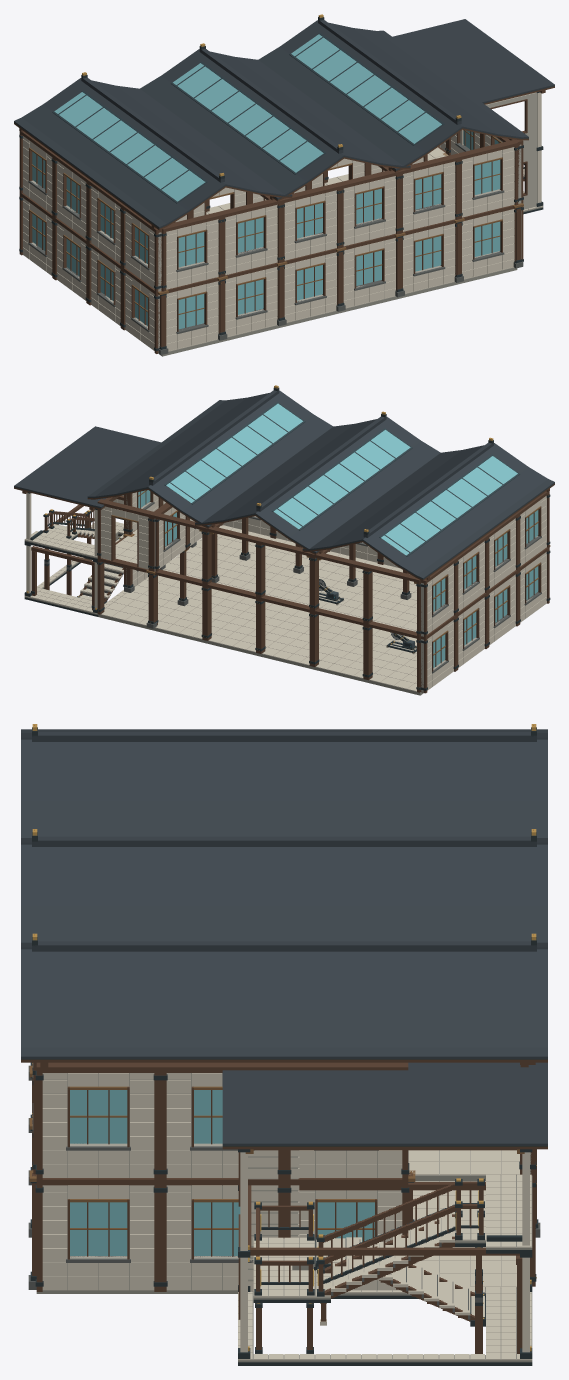
Rendered from visual-far.glb.
The picture shows the model from 3 angles, top to bottom: view 1: azimuth 30°, elevation 25°; view 2: azimuth 150°, elevation 25°; view 3: azimuth 270°, elevation 25°; orthographic projection. The views are drawn at different scales.
Parts seen in each view (by area): view 1: 真实窗洞与玻璃 (×22), 连续屋面 · gable (×3), 工业屋面连续采光带 (×3), 连续屋面 · flat, 服务翼侧出口派生 · 原母版另存, 木柱、石础与金属抱箍 (×4), 真实门洞墙 (×2); view 2: 连续屋面 · gable (×3), 石铺面与混凝土楼板 (×21), 真实窗洞与玻璃 (×12), 工业屋面连续采光带 (×3), 开敞廊柱墙 (×11), 连续屋面 · flat, 服务翼侧出口派生 · 原母版另存, 真实门洞墙, 共享双跑回行踏步, 共享双跑上行踏步; view 3: 连续屋面 · gable (×3), 真实窗洞与玻璃 (×6), 连续屋面 · flat, 服务翼侧出口派生 · 原母版另存, 共享双跑回行踏步, 石铺面与混凝土楼板 (×3), 共享楼梯半转平台, 共享双跑上行踏步.
Part boxes in pixels (x1=…): 真实窗洞与玻璃 (×22): x1=19, y1=130, x2=523, y2=353; 连续屋面 · gable (×3): x1=14, y1=14, x2=528, y2=230; 工业屋面连续采光带 (×3): x1=52, y1=33, x2=444, y2=203; 连续屋面 · flat: x1=392, y1=19, x2=554, y2=104; 服务翼侧出口派生 · 原母版另存: x1=460, y1=91, x2=543, y2=214; 木柱、石础与金属抱箍 (×4): x1=157, y1=232, x2=405, y2=354; 真实门洞墙 (×2): x1=190, y1=158, x2=368, y2=218; 连续屋面 · gable (×3): x1=87, y1=385, x2=554, y2=583; 石铺面与混凝土楼板 (×21): x1=98, y1=525, x2=423, y2=695; 真实窗洞与玻璃 (×12): x1=123, y1=490, x2=550, y2=693; 工业屋面连续采光带 (×3): x1=164, y1=402, x2=519, y2=556; 开敞廊柱墙 (×11): x1=97, y1=513, x2=420, y2=692; 连续屋面 · flat: x1=14, y1=426, x2=161, y2=510; 服务翼侧出口派生 · 原母版另存: x1=24, y1=492, x2=171, y2=616; 真实门洞墙: x1=97, y1=499, x2=154, y2=570; 共享双跑回行踏步: x1=43, y1=509, x2=94, y2=569; 共享双跑上行踏步: x1=77, y1=537, x2=123, y2=603; 连续屋面 · gable (×3): x1=21, y1=724, x2=547, y2=1067; 真实窗洞与玻璃 (×6): x1=35, y1=1062, x2=409, y2=1291; 连续屋面 · flat: x1=222, y1=1062, x2=547, y2=1153; 服务翼侧出口派生 · 原母版另存: x1=238, y1=1149, x2=532, y2=1365; 共享双跑回行踏步: x1=315, y1=1178, x2=485, y2=1302; 石铺面与混凝土楼板 (×3): x1=408, y1=1150, x2=532, y2=1288; 共享楼梯半转平台: x1=253, y1=1201, x2=315, y2=1353; 共享双跑上行踏步: x1=315, y1=1237, x2=485, y2=1326.
Size of the model in its own units: 24.4 by 8.74 by 13.6.
20 materials, 20 textured.
